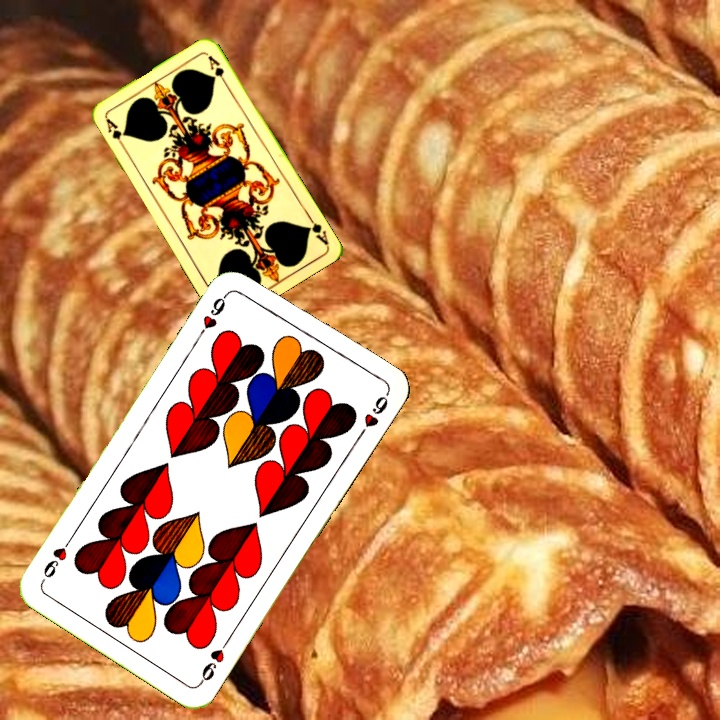GA: (302, 211, 331, 247), (102, 113, 128, 151)
H9: (194, 288, 232, 341), (196, 634, 233, 687)
